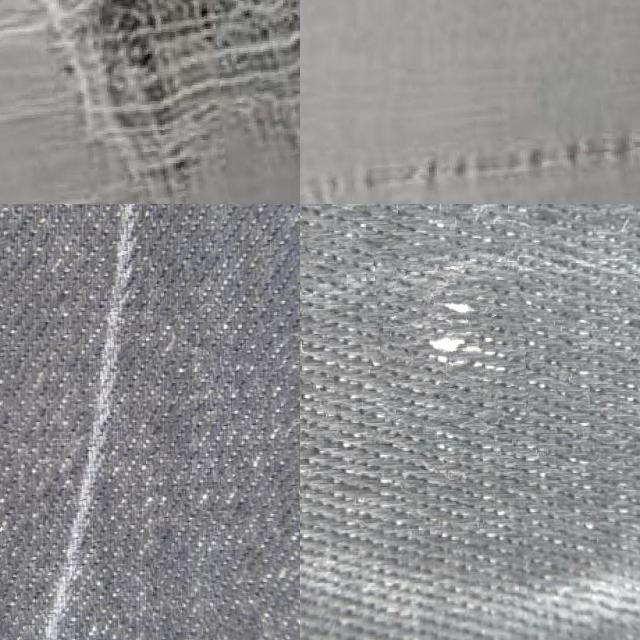stains: (300, 72, 640, 204), (376, 244, 526, 424)
